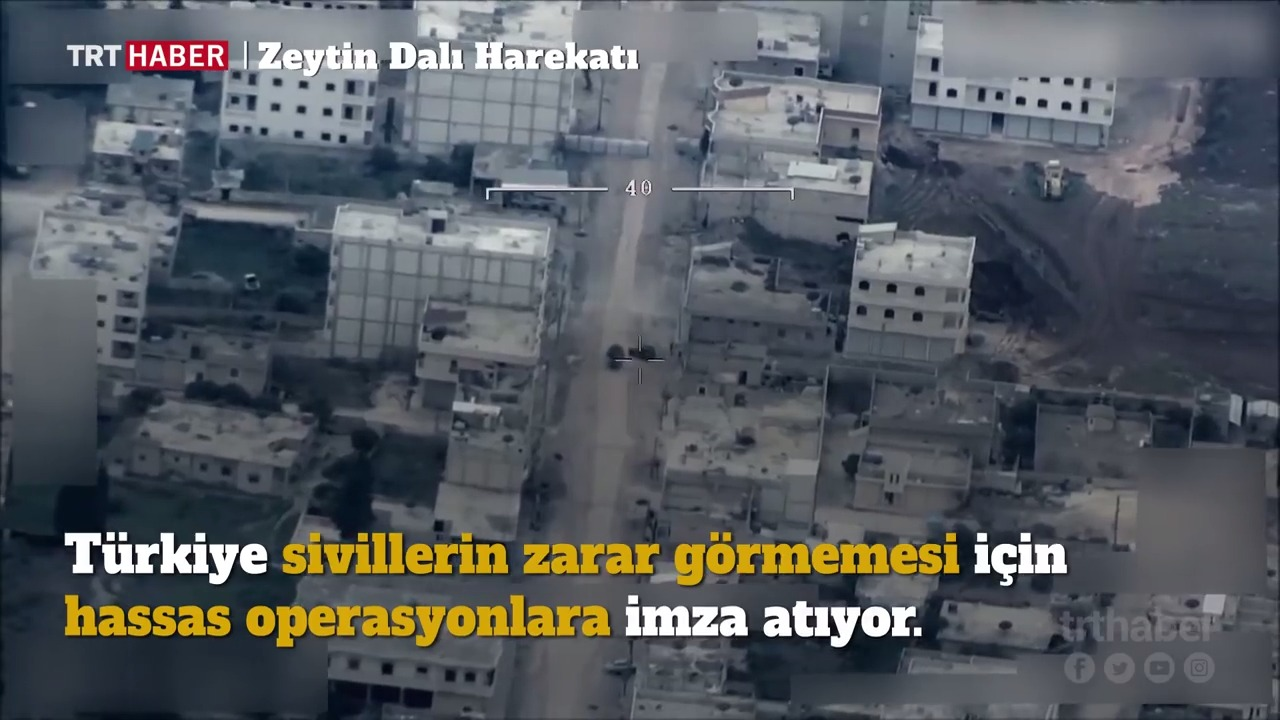arac: (1041, 161, 1084, 195), (627, 335, 665, 357), (606, 650, 635, 678), (609, 340, 623, 369), (243, 270, 261, 289)
bina: (317, 185, 551, 370), (697, 73, 896, 234), (117, 380, 317, 493), (843, 216, 982, 361), (677, 236, 838, 357)
